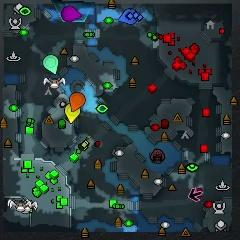p1: (118, 8, 137, 24)
p2: (43, 55, 59, 75)
p3: (62, 7, 81, 22)
p4: (65, 103, 80, 124)
p5: (69, 93, 85, 110)
x1Clone: (188, 188, 202, 201)
